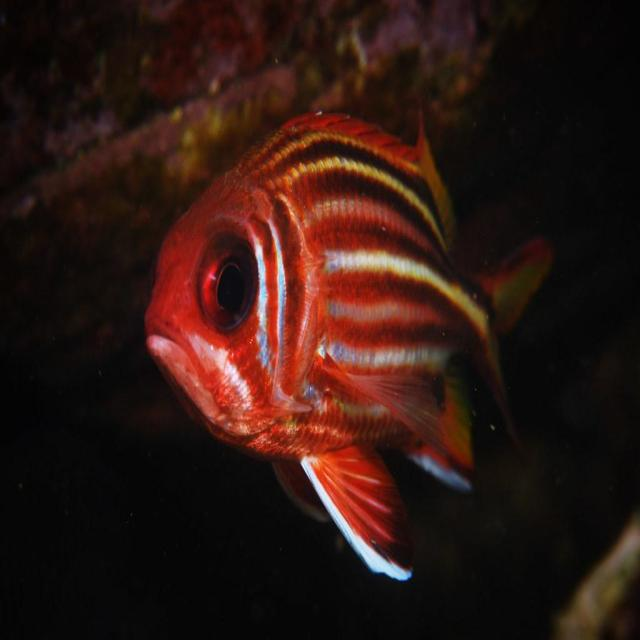Asker Baligi: (138, 87, 510, 585)
